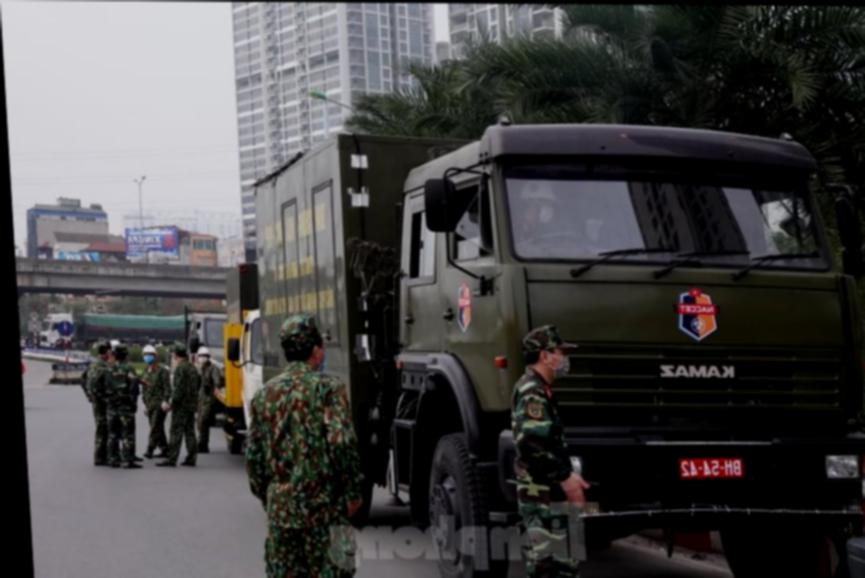License_Plate: (675, 453, 747, 484)
